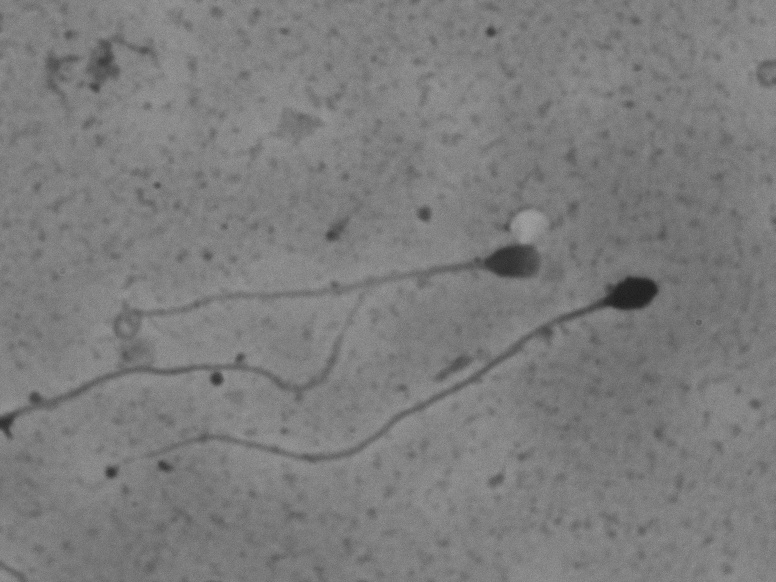Abnormal: (98, 234, 550, 337)
Normal: (78, 263, 679, 499)
